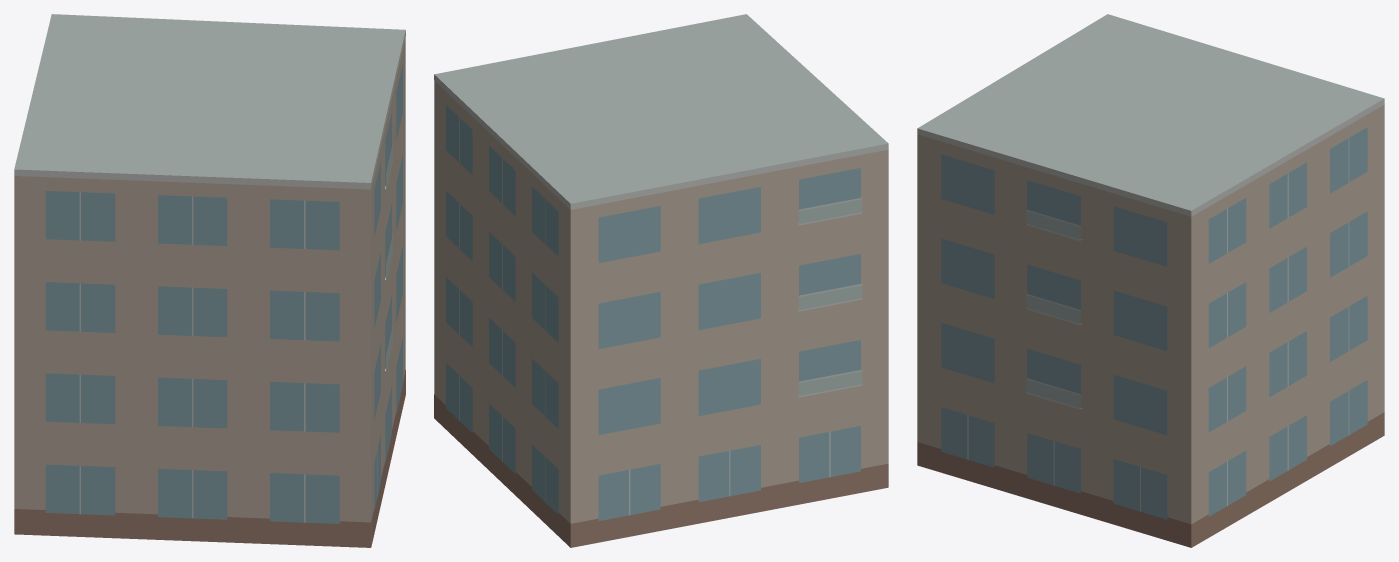
File: survey-upis-32856564.glb
3 renders of one model, left to right at view 1: azimuth 30°, elevation 25°; view 2: azimuth 150°, elevation 25°; view 3: azimuth 270°, elevation 25°, orthographic. The views are drawn at different scales.
Visible parts, largest first — view 1: survey-upis-32856564.tmp; view 2: survey-upis-32856564.tmp; view 3: survey-upis-32856564.tmp.
Boxes of the visible parts, x1,y1,x2,y2 form: survey-upis-32856564.tmp: (14, 14, 405, 547); survey-upis-32856564.tmp: (434, 14, 888, 547); survey-upis-32856564.tmp: (917, 14, 1384, 547).
Size of the model in its own units: 17.36 by 13.85 by 17.42.
